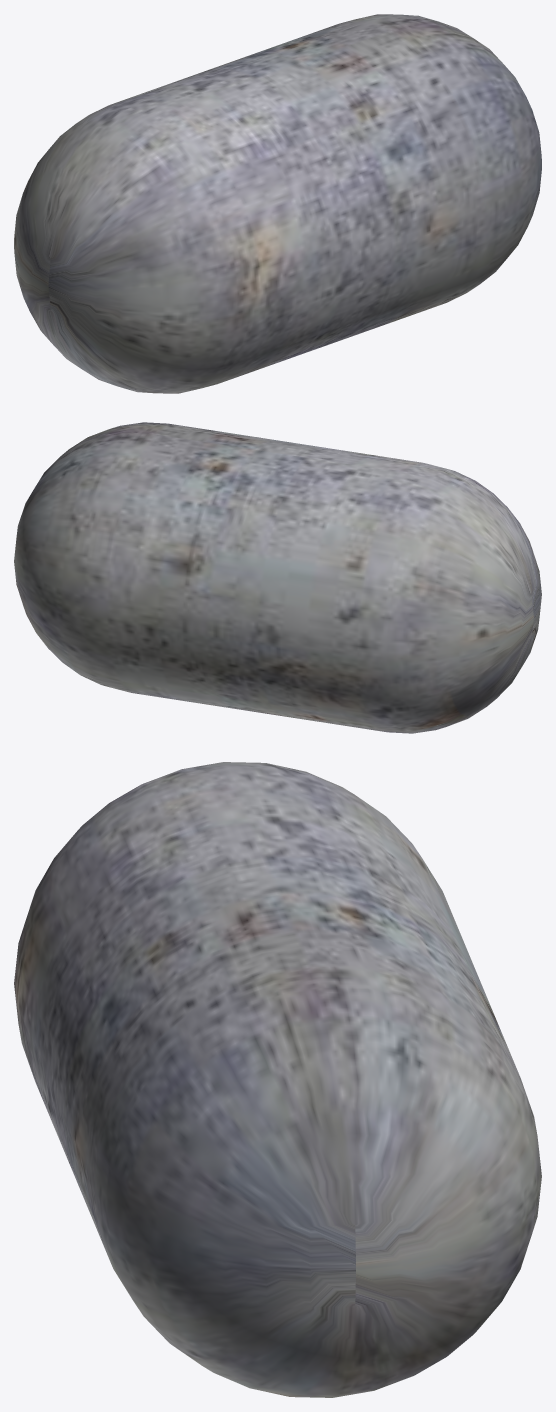
File: Fender_Rear_Right.fbx
The picture shows the model from 3 angles, top to bottom: view 1: azimuth 30°, elevation 25°; view 2: azimuth 150°, elevation 25°; view 3: azimuth 270°, elevation 25°; orthographic projection. The views are drawn at different scales.
Visible parts, largest first — view 1: Fender_Rear_Right; view 2: Fender_Rear_Right; view 3: Fender_Rear_Right.
Part boxes in pixels (x1,y1,x2,y2): Fender_Rear_Right: (14,14,541,393); Fender_Rear_Right: (14,422,541,733); Fender_Rear_Right: (14,762,541,1397).
Bounding box in the file's own units: 1.14 × 0.5743 × 0.6736.
